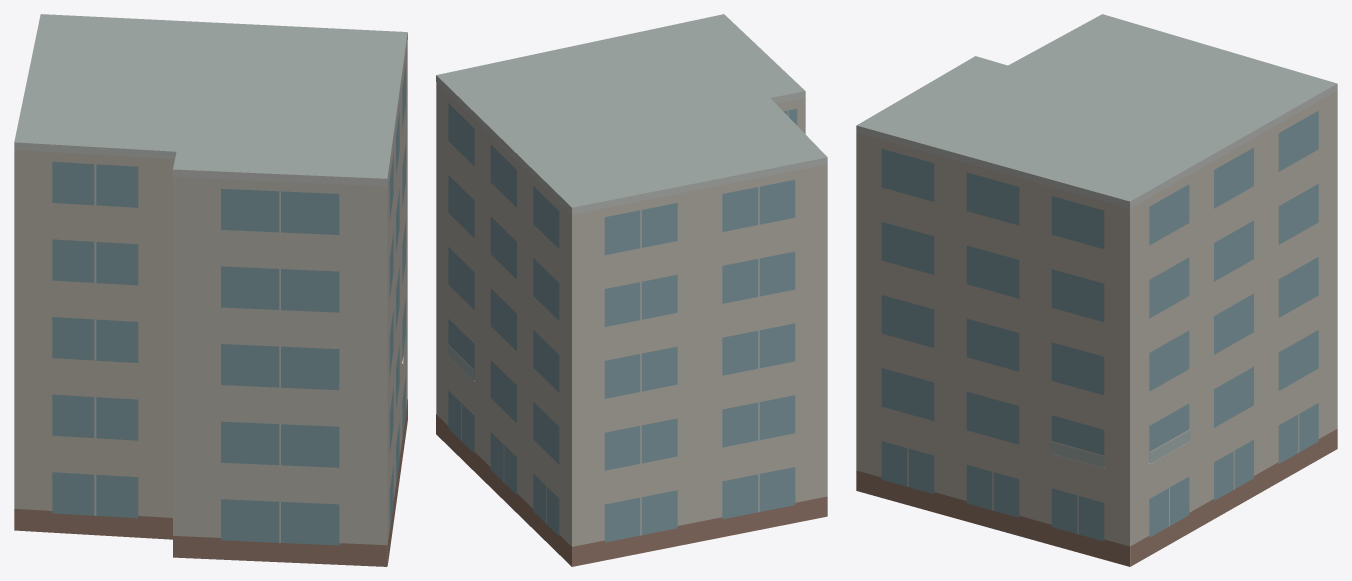
File: survey-upis-32725114.glb
3 renders of one model, left to right at view 1: azimuth 30°, elevation 25°; view 2: azimuth 150°, elevation 25°; view 3: azimuth 270°, elevation 25°, orthographic. The views are drawn at different scales.
Parts seen in each view (by area): view 1: survey-upis-32725114.tmp; view 2: survey-upis-32725114.tmp; view 3: survey-upis-32725114.tmp.
Part boxes in pixels (x1,y1,x2,y2): survey-upis-32725114.tmp: (14, 14, 407, 566); survey-upis-32725114.tmp: (436, 14, 827, 566); survey-upis-32725114.tmp: (856, 14, 1337, 566).
Bounding box in the file's own units: 13.88 × 12.6 × 15.05.
